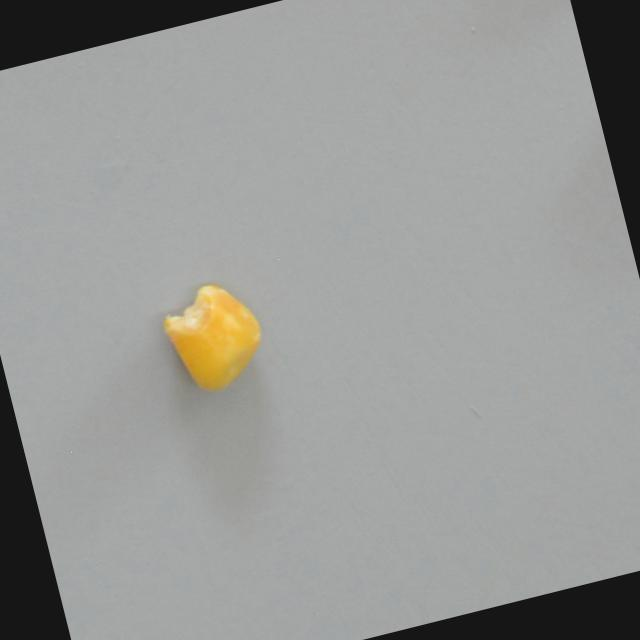pelicula: (152, 271, 277, 403)
